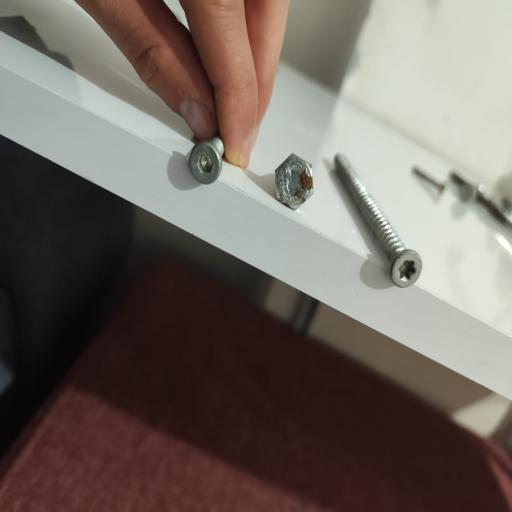Hex-Allen: (272, 152, 318, 214), (188, 137, 224, 188)
Torx: (390, 246, 424, 290)
